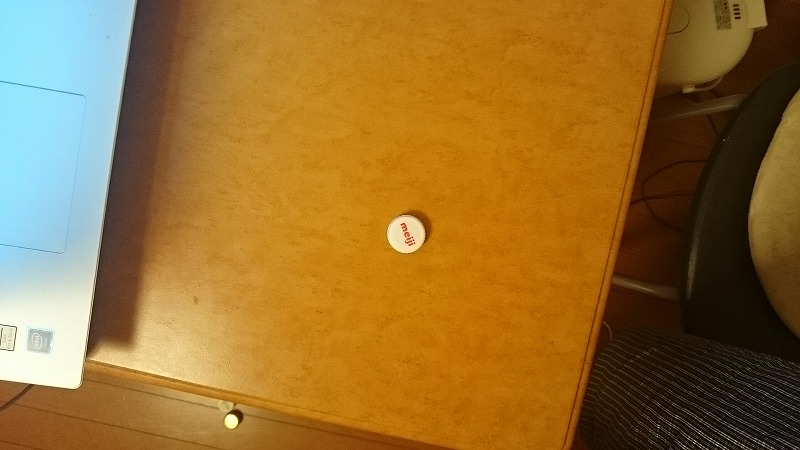B: (384, 206, 429, 259)
